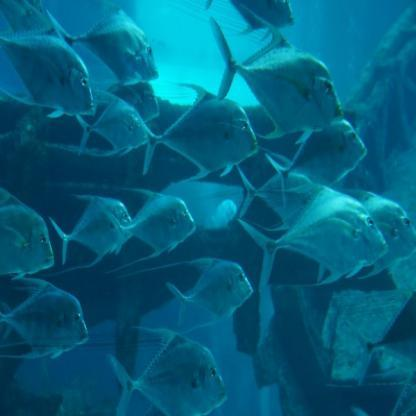Bio: (204, 12, 344, 150), (239, 176, 386, 298), (118, 73, 260, 173), (104, 310, 238, 415), (2, 271, 96, 383), (0, 19, 98, 116), (47, 3, 158, 81), (95, 186, 197, 260), (158, 246, 256, 320)
